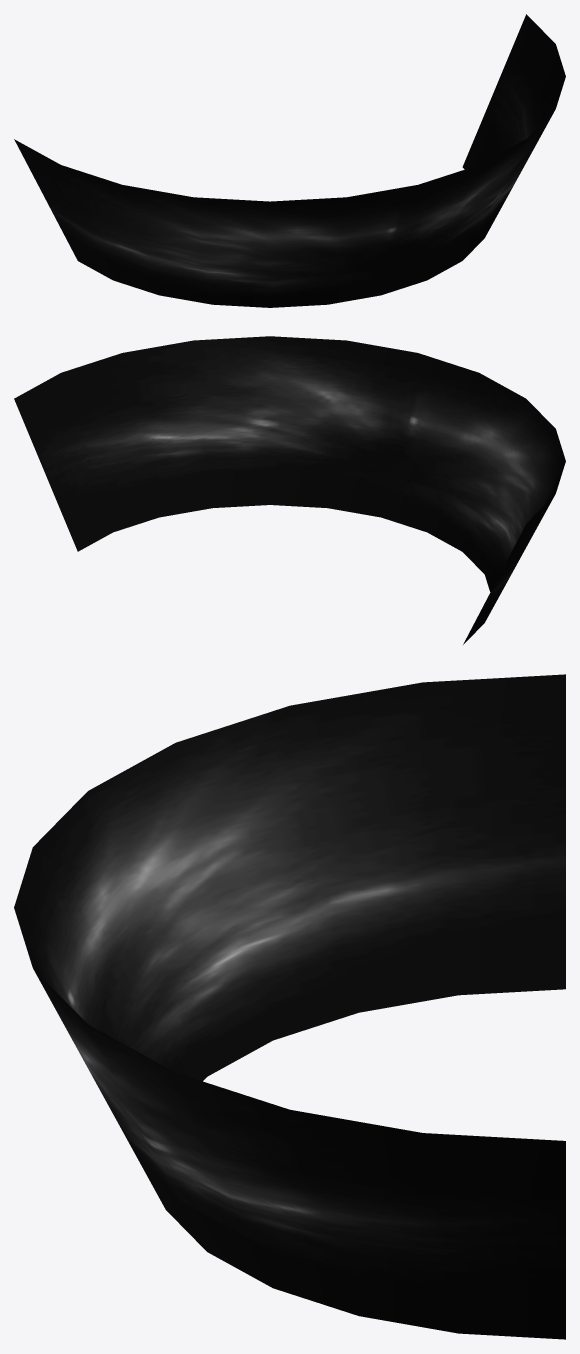
Rendered from 0377_megaABoSuoLu_dust01.glb.
3 renders of one model, top to bottom at view 1: azimuth 30°, elevation 25°; view 2: azimuth 150°, elevation 25°; view 3: azimuth 270°, elevation 25°, orthographic. The views are drawn at different scales.
Bounding box in the file's own units: 2.2 × 0.5646 × 1.1.
1 material, 1 textured.
